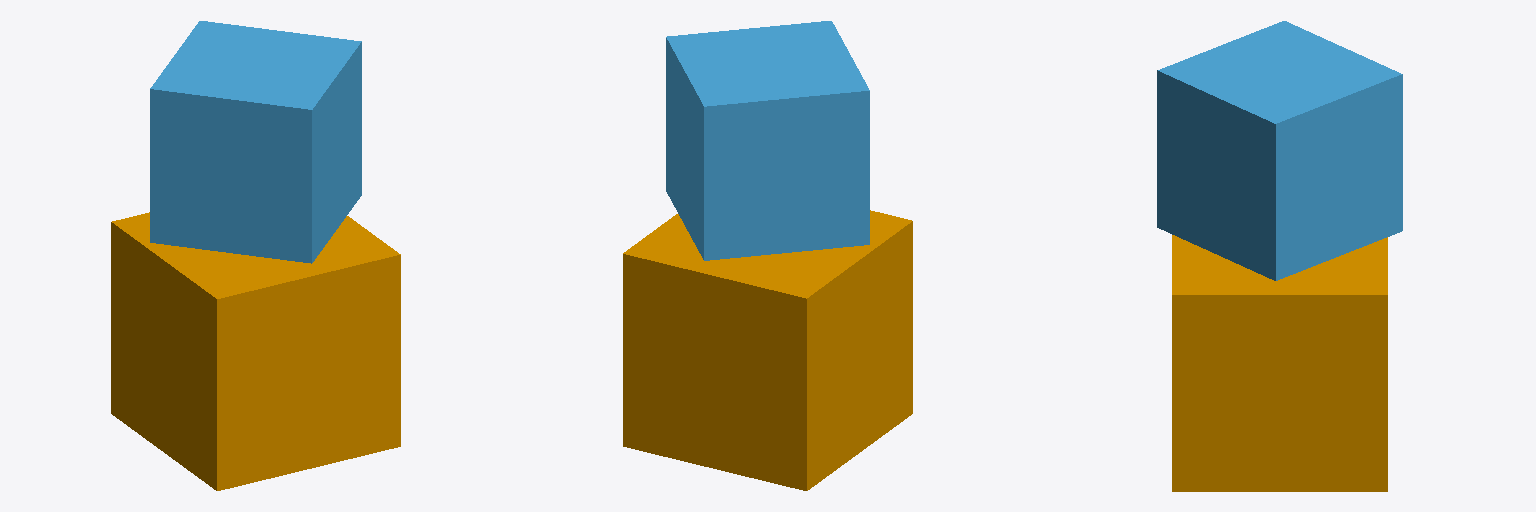
URDF robot description (invalid_joint_limits_fixture):
<?xml version="1.0"?>
<robot name="invalid_joint_limits_fixture">
  <link name="base_link">
    <visual>
      <geometry>
        <box size="0.1 0.1 0.1"/>
      </geometry>
    </visual>
  </link>

  <link name="arm_link">
    <visual>
      <geometry>
        <box size="0.08 0.08 0.08"/>
      </geometry>
    </visual>
  </link>

  <joint name="arm_joint" type="revolute">
    <parent link="base_link"/>
    <child link="arm_link"/>
    <origin xyz="0 0 0.1" rpy="0 0 0"/>
    <axis xyz="0 0 1"/>
    <limit lower="1.0" upper="0.5" effort="10" velocity="1"/>
  </joint>
</robot>

--- Facts derived from the render (not from the file) ---
3 views of the same robot in one strip: view 1: azimuth 30°, elevation 25°; view 2: azimuth 150°, elevation 25°; view 3: azimuth 270°, elevation 25° (orthographic).
Model invalid_joint_limits_fixture with 2 links and 1 joints (1 revolute), rooted at base_link, posed all joints at 0 but 1 set to mid-range because 0 is outside their limits (arm_joint = 0.75).
Links seen in each view (by area): view 1: base_link, arm_link; view 2: base_link, arm_link; view 3: arm_link, base_link.
Link boxes in pixels (box(x1,y1,x2,y2)): base_link: box(111, 212, 400, 490); arm_link: box(150, 21, 361, 263); base_link: box(623, 210, 912, 490); arm_link: box(666, 21, 869, 260); arm_link: box(1157, 21, 1402, 280); base_link: box(1172, 235, 1387, 491).
Size in the robot's own frame: 0.1131 by 0.1131 by 0.19 metres.
Geometry: primitives only (box / cylinder / sphere), no mesh files.
